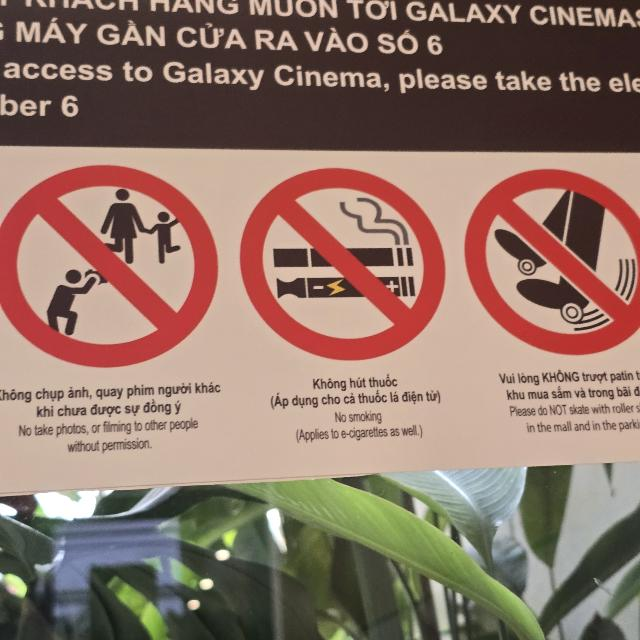cam hut thuoc: (241, 169, 444, 360)
